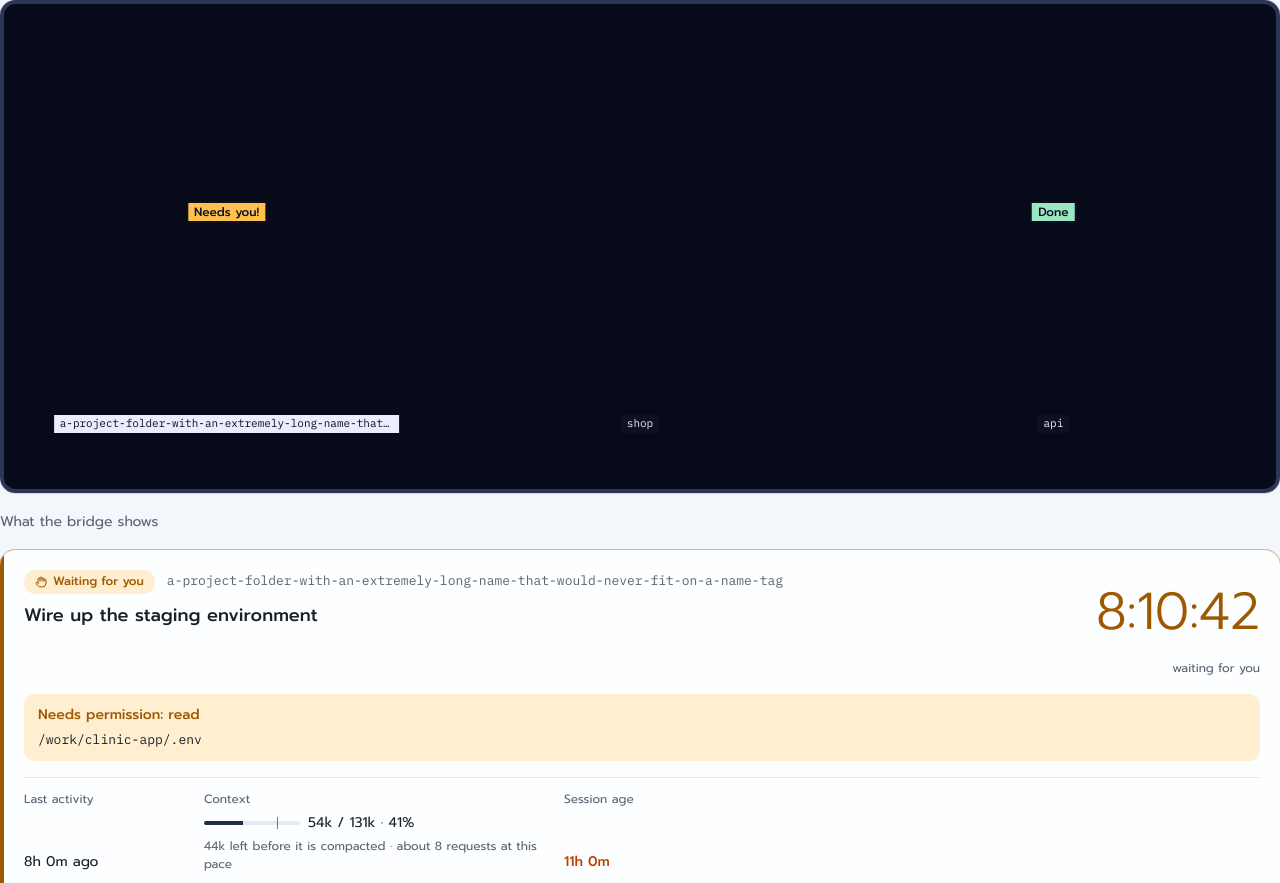
The bridge › says what the pictures mean, on request
Click the button "What the bridge shows". click: {"x": 79, "y": 522}
box: [0, 511, 158, 533]
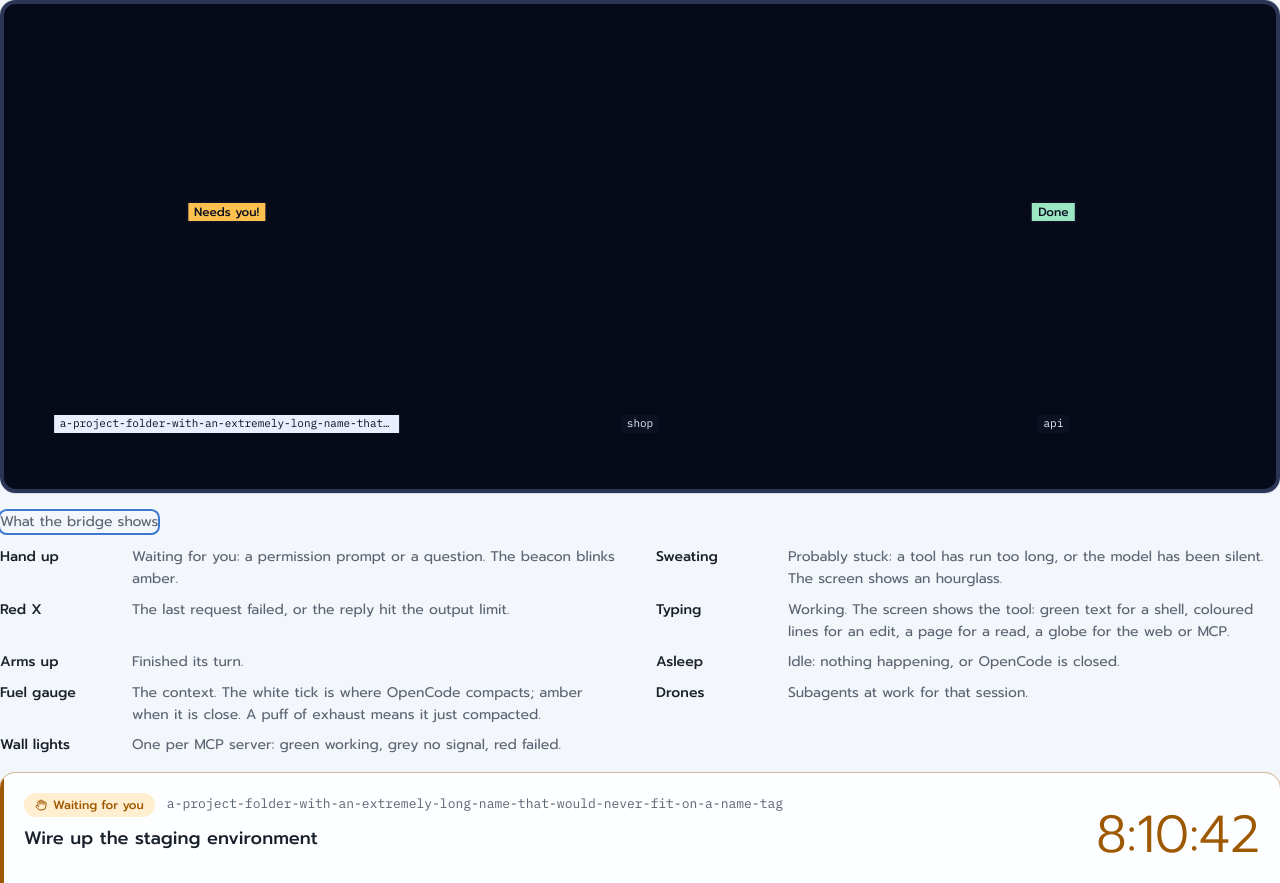
Check: the text "Fuel gauge" is shown, box [0, 682, 76, 703]
Check: the text "The white tick is where OpenCode compacts" is shown, box [132, 682, 583, 725]
